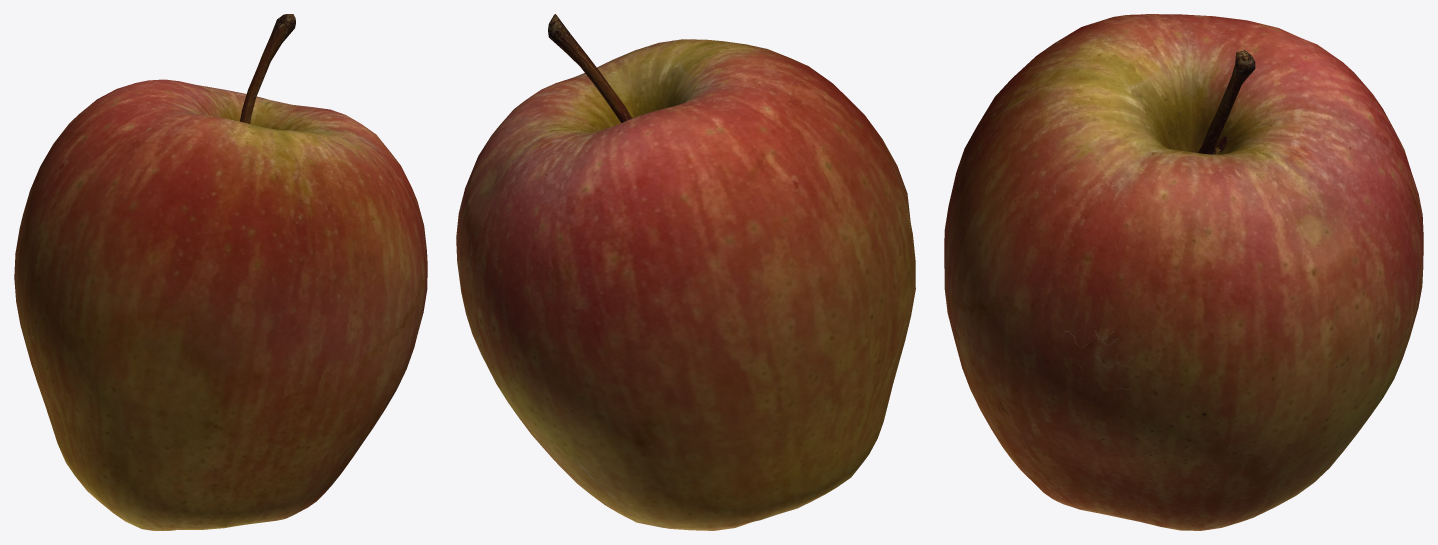
The model's file is apple.glb.
3 views of the same model, side by side, from view 1: azimuth 30°, elevation 25°; view 2: azimuth 150°, elevation 25°; view 3: azimuth 270°, elevation 25° (orthographic). The views are drawn at different scales.
Parts seen in each view (by area): view 1: Apple_Apple PBR_0; view 2: Apple_Apple PBR_0; view 3: Apple_Apple PBR_0.
Part boxes in pixels (x1=…): Apple_Apple PBR_0: x1=14, y1=14, x2=427, y2=530; Apple_Apple PBR_0: x1=456, y1=14, x2=915, y2=530; Apple_Apple PBR_0: x1=944, y1=14, x2=1423, y2=530.
Bounding box in the file's own units: 0.2075 × 0.2375 × 0.2055.
1 material, 1 textured.
